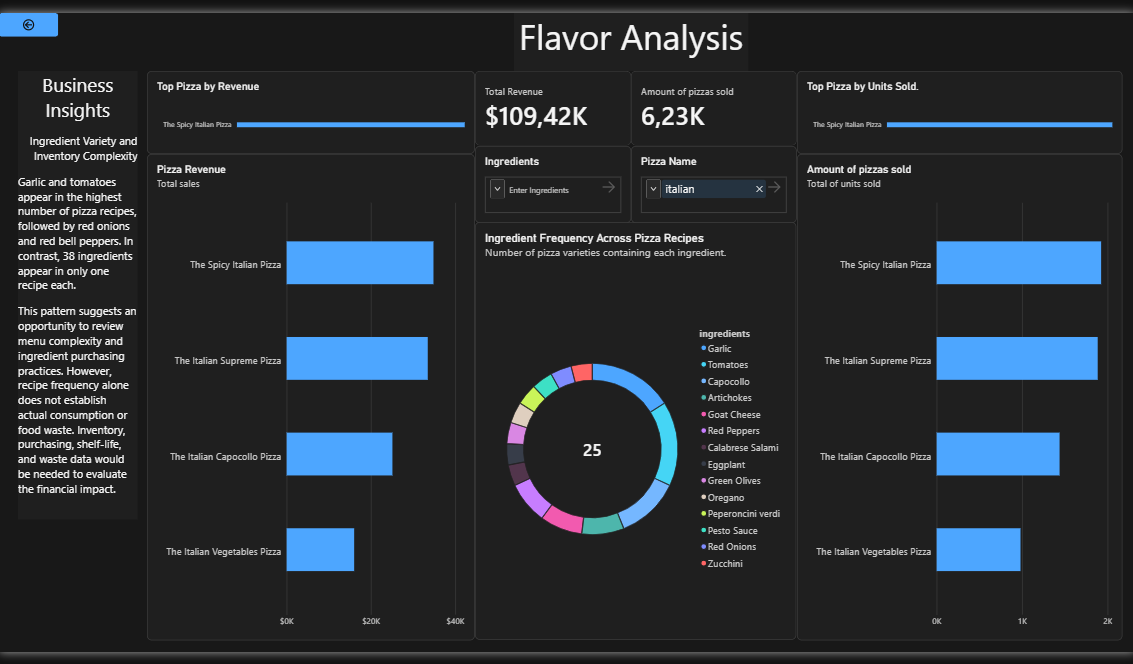

The page's visual inventory and layout, read from the dashboard file:
{"tool":"powerbi","page":{"name":"Flavor_Analysis","canvas":[1920,1080],"ordinal":1},"visuals":[{"type":"clusteredBarChart","title":"Pizza Revenue","fields":{"Category":["Pizza_Revenue_By_Flavor.name"],"Y":["order_details.Total Sales"]},"box":[250,238,554,822],"z":0},{"type":"textbox","box":[870,0,396,98],"z":1000},{"type":"hundredPercentStackedBarChart","title":"Top Pizza by Revenue","fields":{"Category":["Pizza_Revenue_By_Flavor.name"],"Y":["order_details.Total Sales"]},"box":[250,98,554,140],"z":2000},{"type":"hundredPercentStackedBarChart","title":"Top Pizza by Units Sold.","fields":{"Category":["Pizza_Revenue_By_Flavor.name"],"Y":["Sum(Pizza_Revenue_By_Flavor.total_revenue)"]},"box":[1348,98,550,140],"z":3000},{"type":"donutChart","title":"Ingredient Frequency Across Pizza Recipes","fields":{"Category":["Pizza_Ingredients_Split.ingredients"],"Y":["CountNonNull(Pizza_Ingredients_Split.ingredients)"]},"box":[803.8,353.8,542.5,706.2],"z":4000},{"type":"clusteredBarChart","title":"Amount of pizzas sold","fields":{"Category":["Pizza_Revenue_By_Flavor.name"],"Y":["Sum(Pizza_Revenue_By_Flavor.total_quantity)"]},"box":[1348,238,550,822],"z":5000},{"type":"textSlicer","title":"Pizza Name","fields":{"Values":["Pizza_Revenue_By_Flavor.name"]},"box":[1068,224,280,130],"z":6000},{"type":"actionButton","box":[0,0,100,40],"z":7000},{"type":"cardVisual","fields":{"Data":["Sum(Pizza_Revenue_By_Flavor.total_revenue)"]},"box":[804,98,264,126],"z":8000},{"type":"cardVisual","fields":{"Data":["Sum(Pizza_Revenue_By_Flavor.total_quantity)"]},"box":[1068,98,280,126],"z":9000},{"type":"textbox","box":[32,98,202,758],"z":10000},{"type":"textSlicer","fields":{"Values":["Pizza_Ingredients_Split.ingredients"]},"box":[804,224,264,130],"z":10001}]}

Visuals, with their boxes on the page's 1920x1080 design canvas (x1, y1, x2, y2). These are canvas units, not pixel positions in the 1133x664 screenshot, which may show the page scaled, cropped or inside an application window:
"Pizza Revenue" clusteredBarChart: x1=250, y1=238, x2=804, y2=1060
textbox: x1=870, y1=0, x2=1266, y2=98
"Top Pizza by Revenue" hundredPercentStackedBarChart: x1=250, y1=98, x2=804, y2=238
"Top Pizza by Units Sold." hundredPercentStackedBarChart: x1=1348, y1=98, x2=1898, y2=238
"Ingredient Frequency Across Pizza Recipes" donutChart: x1=804, y1=354, x2=1346, y2=1060
"Amount of pizzas sold" clusteredBarChart: x1=1348, y1=238, x2=1898, y2=1060
"Pizza Name" textSlicer: x1=1068, y1=224, x2=1348, y2=354
actionButton: x1=0, y1=0, x2=100, y2=40
cardVisual - Sum(Pizza_Revenue_By_Flavor.total_revenue): x1=804, y1=98, x2=1068, y2=224
cardVisual - Sum(Pizza_Revenue_By_Flavor.total_quantity): x1=1068, y1=98, x2=1348, y2=224
textbox: x1=32, y1=98, x2=234, y2=856
textSlicer - Pizza_Ingredients_Split.ingredients: x1=804, y1=224, x2=1068, y2=354
